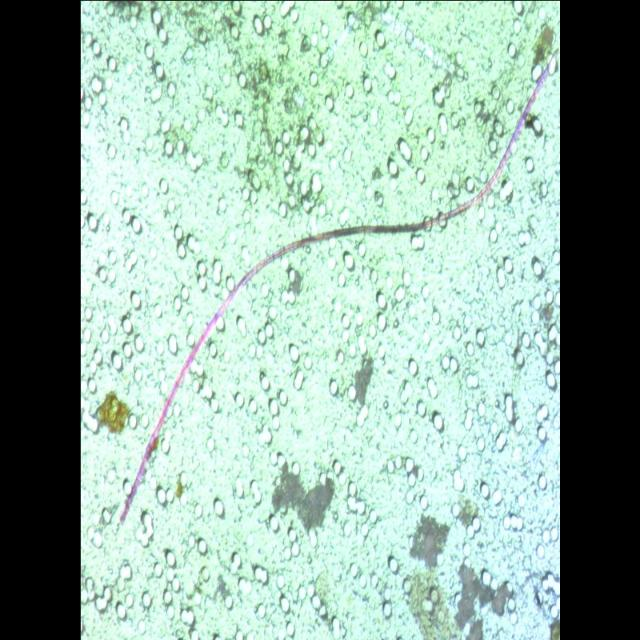Fibre: (116, 33, 560, 531)
